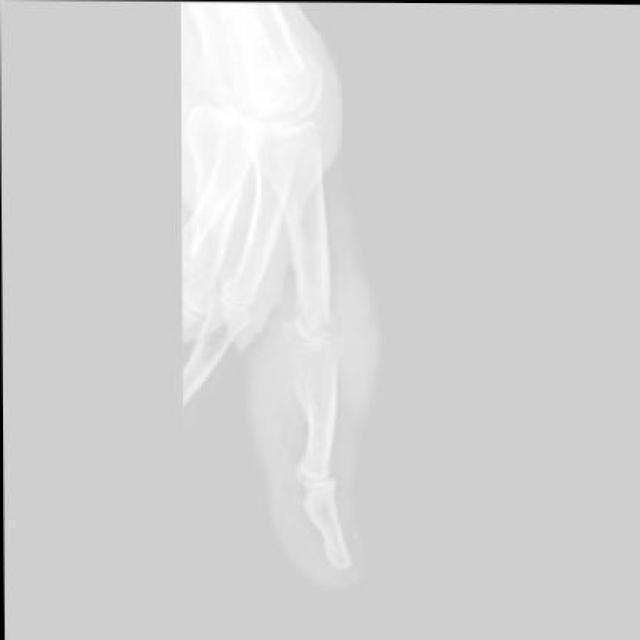Fracture: (286, 328, 347, 419)
